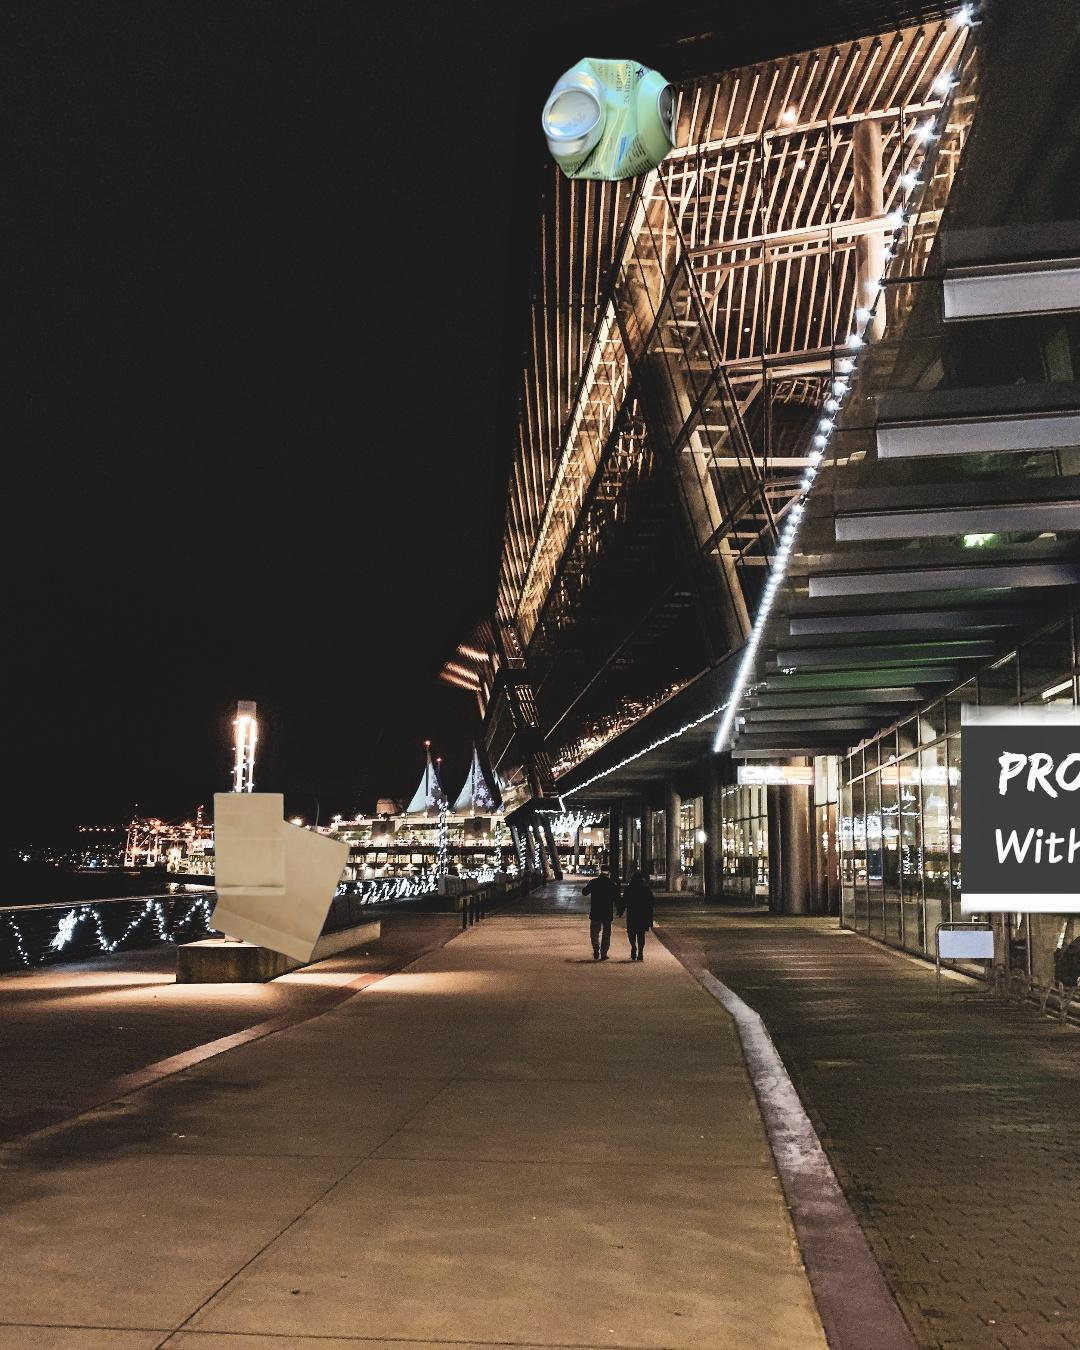metal-cans: (537, 50, 683, 188)
paper-bag: (206, 775, 354, 966)
penholder: (1011, 602, 1080, 997)
trashbox-cardboard: (961, 440, 1080, 935)
